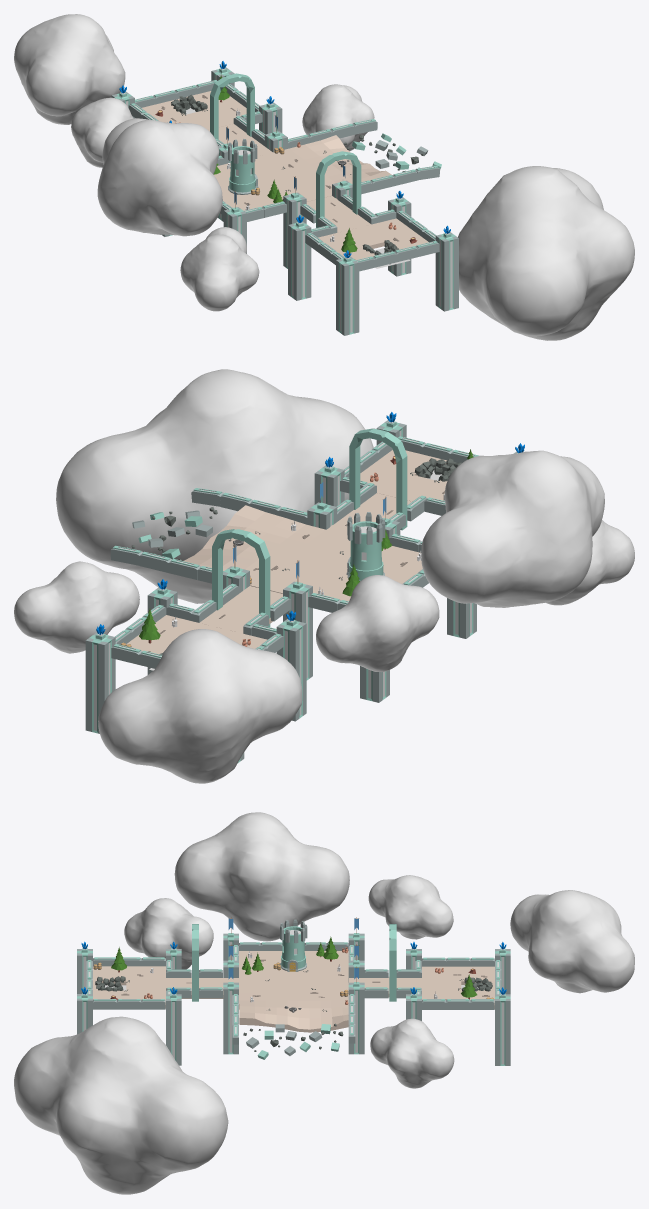
Rendered from heaven 01.fbx.
3 renders of one model, top to bottom at view 1: azimuth 30°, elevation 25°; view 2: azimuth 150°, elevation 25°; view 3: azimuth 270°, elevation 25°, orthographic. The views are drawn at different scales.
Parts seen in each view (by area): view 1: Mball.004, Mball.005, Mball.003, Cube.022, Mball.006, Mball.002, Mball.001, Cube.032, Cube.043, Cube.044, Cube.042, Cube.050 (+13 smaller); view 2: Mball.004, Mball.005, Mball.003, Cube.022, Mball.001, Mball.002, Mball.006, Cube.051, Cube.032, Plane.006, Tower.003, Plane (+12 smaller); view 3: Mball.004, Mball.005, Mball.003, Cube.022, Mball.001, Mball.002, Mball.006, Cube.032, Cube.050, Cube.051, Tower.003, Cube.041 (+12 smaller).
Boxes of the visible parts, box(x1,y1,x2,y2) form: Mball.004: box(458, 166, 634, 340); Mball.005: box(97, 118, 222, 236); Mball.003: box(14, 14, 125, 124); Cube.022: box(214, 135, 392, 210); Mball.006: box(180, 227, 259, 311); Mball.002: box(302, 84, 374, 151); Mball.001: box(71, 97, 133, 167); Cube.032: box(318, 218, 428, 259); Cube.043: box(336, 256, 359, 335); Cube.044: box(435, 232, 458, 311); Cube.042: box(288, 221, 311, 300); Cube.050: box(142, 91, 246, 129); Mball.004: box(56, 369, 373, 603); Mball.005: box(421, 450, 604, 607); Mball.003: box(98, 629, 302, 783); Cube.022: box(169, 505, 422, 601); Mball.001: box(316, 575, 439, 671); Mball.002: box(14, 561, 139, 653); Mball.006: box(545, 520, 634, 605); Cube.051: box(85, 632, 115, 733); Cube.032: box(360, 450, 447, 501); Plane.006: box(349, 428, 407, 530); Tower.003: box(347, 512, 385, 581); Plane: box(212, 529, 270, 627); Mball.004: box(14, 1016, 228, 1194); Mball.005: box(174, 812, 349, 941); Mball.003: box(510, 890, 634, 993); Cube.022: box(239, 951, 348, 1032); Mball.001: box(368, 875, 453, 939); Mball.002: box(370, 1018, 454, 1088); Mball.006: box(124, 898, 213, 969); Cube.032: box(93, 966, 165, 1008); Cube.050: box(422, 966, 494, 1008); Cube.051: box(495, 993, 510, 1065); Tower.003: box(280, 919, 307, 970); Cube.041: box(166, 993, 181, 1065).
Bounding box in the file's own units: 3947 × 2028 × 5079.
